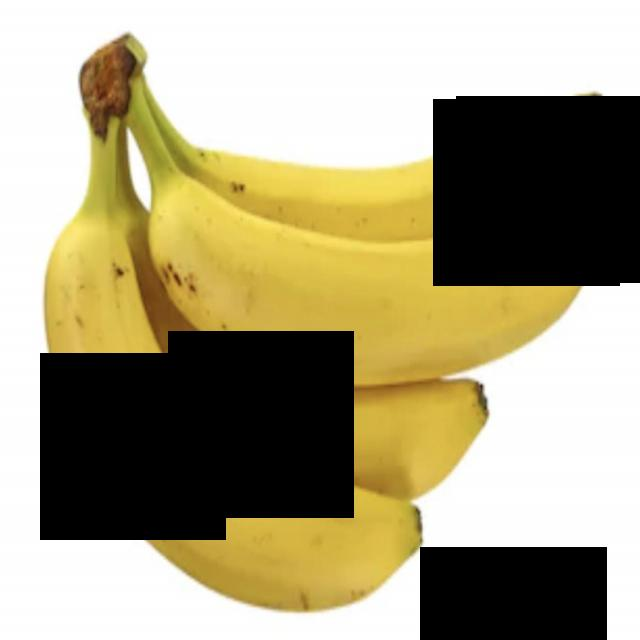banana: (0, 168, 494, 635), (114, 43, 594, 400), (180, 33, 630, 241)
